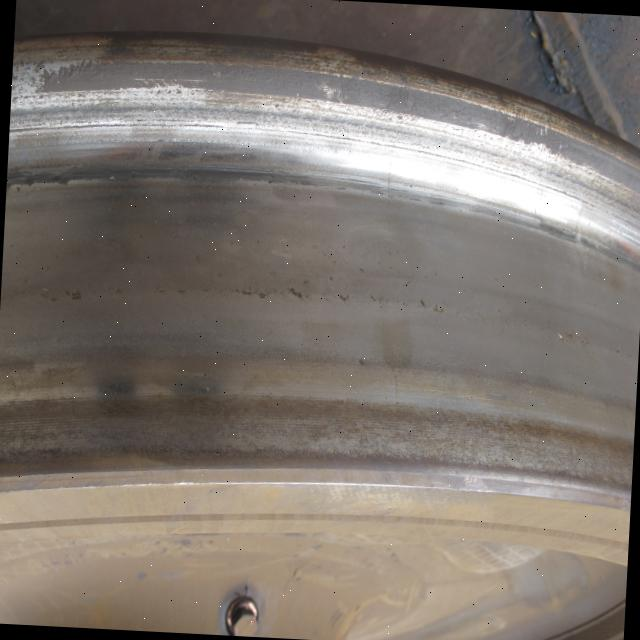Peeling: (238, 289, 273, 300), (559, 334, 591, 346), (420, 302, 446, 315), (65, 288, 84, 302), (42, 289, 58, 304), (158, 289, 187, 296), (291, 289, 306, 302), (340, 295, 350, 303), (114, 289, 122, 296), (618, 350, 621, 356)
